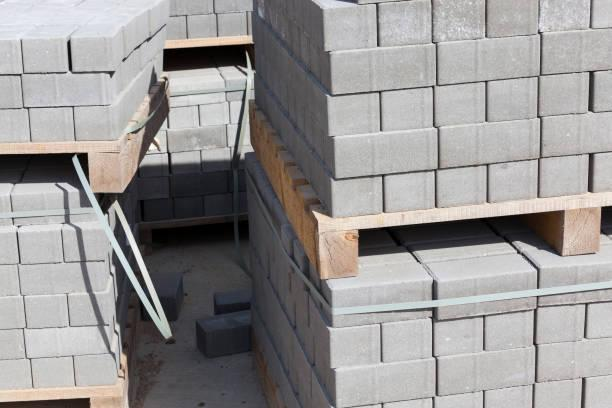Bricks: (428, 250, 540, 317), (524, 243, 611, 307), (335, 354, 438, 403), (330, 128, 434, 175), (322, 280, 438, 322), (438, 348, 534, 398), (440, 120, 544, 165), (324, 50, 437, 90), (311, 259, 433, 292), (537, 111, 611, 162), (533, 339, 611, 387), (442, 42, 540, 78), (27, 73, 110, 109), (13, 188, 99, 222), (25, 322, 113, 354), (379, 314, 440, 360), (18, 264, 108, 291), (543, 36, 612, 71), (482, 307, 535, 352), (529, 304, 587, 345), (320, 328, 377, 369), (377, 3, 433, 44), (63, 215, 111, 262), (384, 90, 438, 129), (432, 316, 488, 353), (539, 156, 592, 195), (535, 77, 592, 113), (18, 218, 66, 260), (434, 3, 487, 41), (195, 316, 246, 354), (69, 349, 121, 386), (331, 96, 382, 133), (485, 0, 537, 36), (387, 176, 436, 213), (31, 353, 75, 394), (326, 179, 380, 212), (437, 87, 483, 124), (74, 39, 124, 73), (325, 12, 378, 44), (487, 165, 535, 200), (490, 83, 537, 118), (24, 294, 71, 328), (74, 288, 117, 325), (435, 172, 488, 201), (543, 0, 591, 32), (22, 40, 73, 69), (74, 110, 116, 144), (27, 110, 72, 141), (169, 174, 231, 196), (485, 379, 532, 407), (125, 12, 154, 56), (533, 384, 584, 407), (0, 359, 34, 392), (0, 106, 32, 141), (590, 74, 612, 121), (584, 302, 611, 338), (68, 23, 122, 41), (19, 23, 82, 38), (212, 12, 247, 39), (0, 298, 27, 332), (432, 390, 485, 407), (0, 75, 24, 110), (186, 12, 218, 38), (172, 131, 226, 146), (580, 379, 611, 405), (144, 1, 169, 33), (0, 326, 24, 359), (0, 226, 18, 267), (134, 177, 167, 199), (0, 41, 22, 73), (591, 1, 612, 34), (169, 2, 214, 17), (215, 290, 248, 309), (0, 265, 21, 294), (141, 153, 169, 174), (172, 151, 200, 171), (167, 109, 198, 127), (203, 148, 231, 167), (593, 154, 612, 181), (141, 202, 171, 219), (213, 0, 255, 12), (172, 199, 201, 216), (202, 105, 229, 123), (167, 17, 186, 40), (205, 199, 226, 217)
